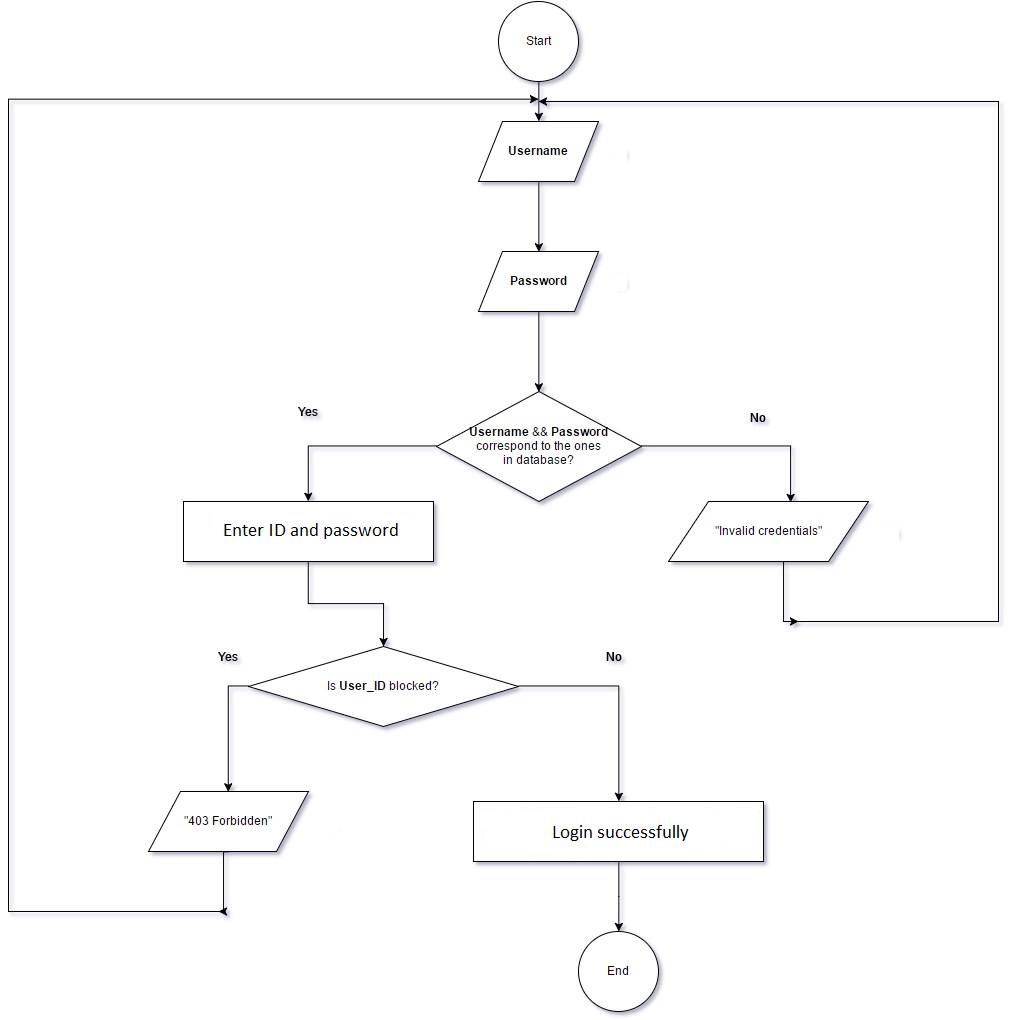arrow: (3, 92, 542, 922), (539, 94, 1000, 628), (506, 678, 625, 803), (636, 439, 797, 505), (301, 440, 450, 500), (301, 556, 389, 650), (220, 683, 254, 795), (609, 858, 629, 936), (533, 305, 550, 395), (531, 176, 550, 256), (779, 558, 797, 630), (217, 847, 231, 915), (531, 81, 547, 120)
connection: (573, 926, 665, 1017), (493, 3, 581, 86)
data: (665, 497, 872, 565), (147, 787, 311, 858), (476, 117, 603, 189), (476, 247, 601, 317)
decision: (434, 387, 647, 505), (251, 640, 518, 728)
process: (468, 798, 773, 869), (179, 497, 437, 567)
text: (465, 420, 612, 467), (215, 519, 404, 540), (547, 822, 690, 845), (322, 675, 445, 697), (179, 809, 276, 833), (711, 517, 825, 537), (503, 139, 570, 158), (509, 270, 570, 287), (520, 25, 556, 51), (601, 959, 636, 980), (293, 400, 326, 422), (745, 403, 775, 426), (601, 645, 628, 667), (214, 648, 243, 665)
